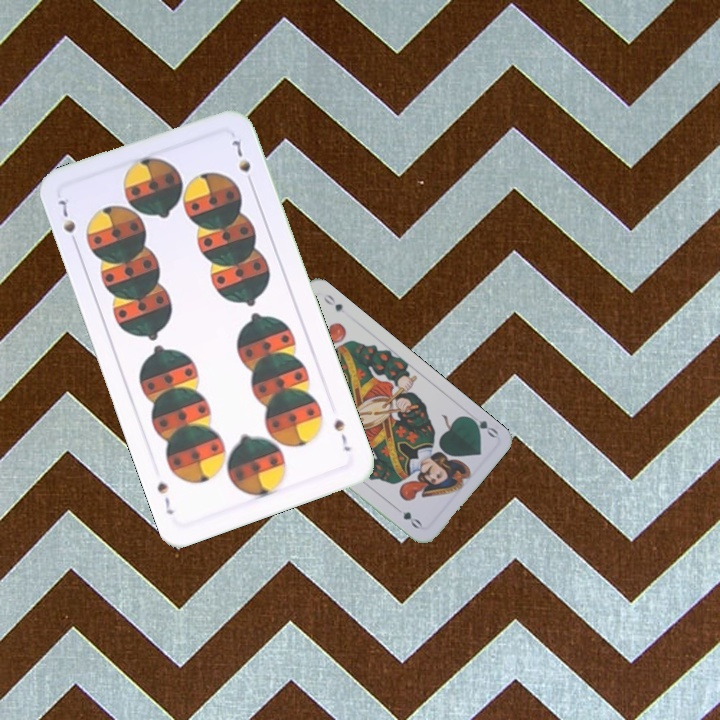GO: (463, 409, 501, 440)
S7: (53, 195, 81, 250), (330, 415, 354, 454)
